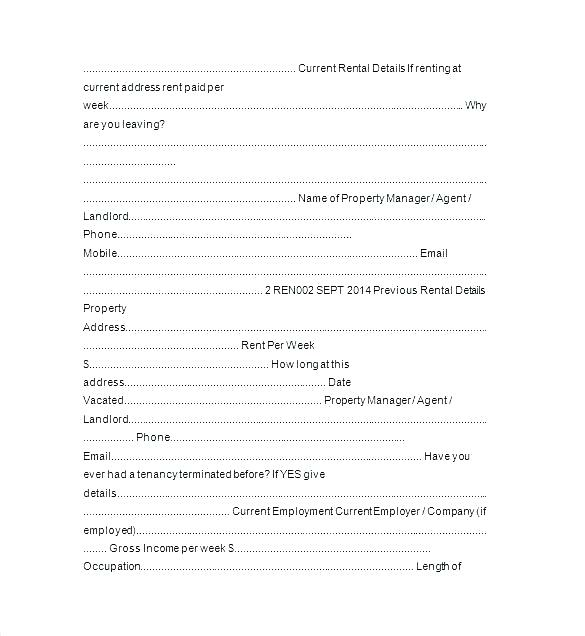textline: (82, 258, 493, 282), (110, 91, 461, 116), (125, 313, 490, 336), (116, 481, 486, 503), (83, 132, 484, 152), (130, 409, 485, 430), (80, 45, 296, 78), (80, 172, 494, 189), (135, 517, 491, 536), (129, 207, 491, 225), (118, 242, 421, 263), (115, 222, 359, 245), (141, 555, 417, 575), (113, 447, 423, 464), (80, 187, 301, 209), (123, 372, 329, 391), (172, 430, 413, 446), (124, 391, 323, 409), (89, 353, 271, 372), (236, 538, 438, 555), (84, 497, 231, 518), (82, 334, 239, 352), (78, 281, 265, 296), (83, 151, 184, 174), (84, 427, 135, 445), (84, 540, 108, 557)
